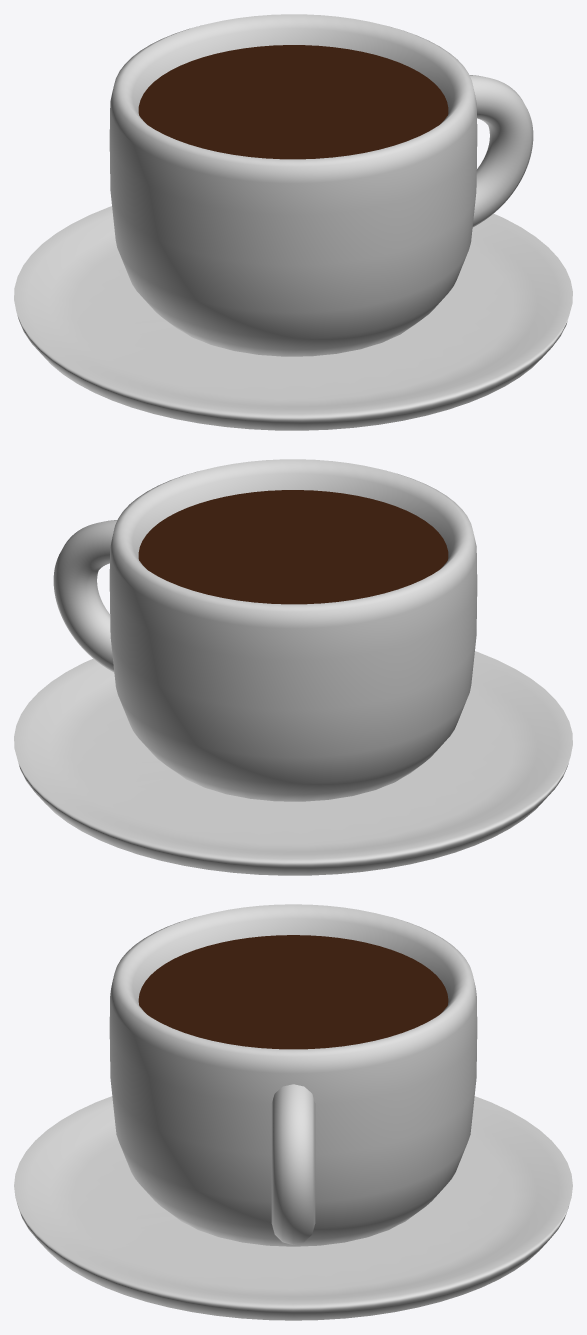
Rendered from cup.glb.
The picture shows the model from 3 angles, top to bottom: view 1: azimuth 30°, elevation 25°; view 2: azimuth 150°, elevation 25°; view 3: azimuth 270°, elevation 25°; orthographic projection.
Parts seen in each view (by area): view 1: Cup.001, Plate.001, Cylinder, CupHandle.001; view 2: Cup.001, Plate.001, Cylinder, CupHandle.001; view 3: Cup.001, Plate.001, Cylinder, CupHandle.001.
Part boxes in pixels (left/top/right/bottom): Cup.001: left=109, top=14, right=477, bottom=356; Plate.001: left=14, top=206, right=572, bottom=430; Cylinder: left=138, top=45, right=448, bottom=159; CupHandle.001: left=469, top=75, right=533, bottom=227; Cup.001: left=109, top=459, right=477, bottom=801; Plate.001: left=14, top=651, right=572, bottom=875; Cylinder: left=138, top=490, right=448, bottom=604; CupHandle.001: left=53, top=520, right=117, bottom=672; Cup.001: left=109, top=904, right=477, bottom=1246; Plate.001: left=14, top=1096, right=572, bottom=1320; Cylinder: left=138, top=935, right=448, bottom=1049; CupHandle.001: left=271, top=1084, right=315, bottom=1244.
Size of the model in its own units: 2.84 by 1.33 by 2.84.
